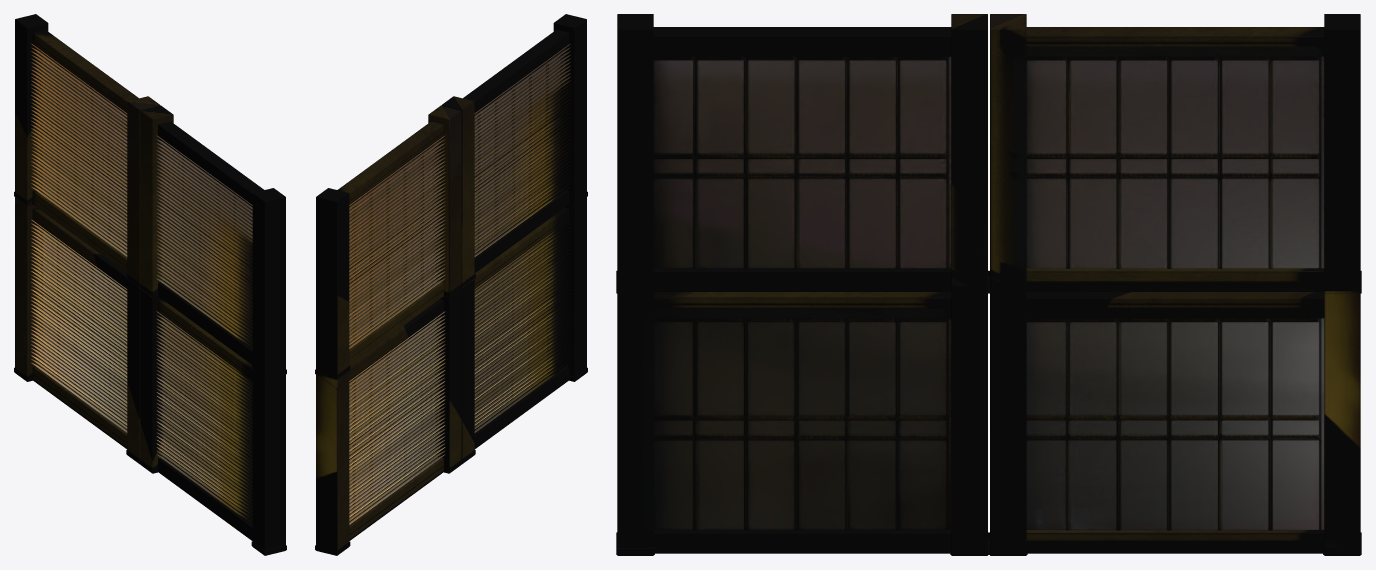
3 renders of one model, left to right at view 1: azimuth 30°, elevation 25°; view 2: azimuth 150°, elevation 25°; view 3: azimuth 270°, elevation 25°, orthographic. The views are drawn at different scales.
Visible parts, largest first — view 1: w2; view 2: w2; view 3: w2.
Part boxes in pixels (box(x1,y1,x2,y2)): w2: box(14, 14, 286, 555); w2: box(315, 14, 587, 555); w2: box(616, 14, 1361, 555).
Bounding box in the file's own units: 0.8249 × 12.37 × 15.86.
Materials: 1 (1 with a texture image).
